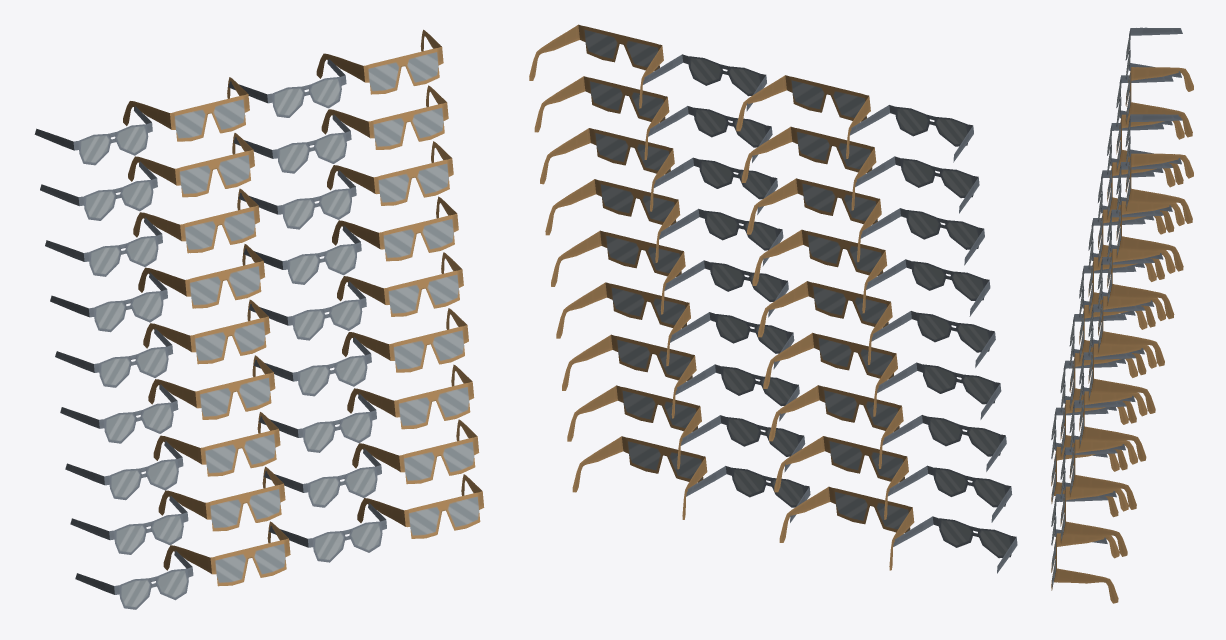
File: SM_Prop_Shop_Stand_05_Insert_02.fbx
The picture shows the model from 3 angles, left to right: view 1: azimuth 30°, elevation 25°; view 2: azimuth 150°, elevation 25°; view 3: azimuth 270°, elevation 25°; orthographic projection. The views are drawn at different scales.
Parts seen in each view (by area): view 1: SM_Prop_Shop_Stand_05_Insert_02; view 2: SM_Prop_Shop_Stand_05_Insert_02; view 3: SM_Prop_Shop_Stand_05_Insert_02.
Boxes of the visible parts, left/top/right/bottom form: SM_Prop_Shop_Stand_05_Insert_02: left=34, top=29, right=484, bottom=609; SM_Prop_Shop_Stand_05_Insert_02: left=529, top=24, right=1017, bottom=573; SM_Prop_Shop_Stand_05_Insert_02: left=1051, top=27, right=1193, bottom=603.
Size of the model in its own units: 103 by 119 by 39.58.
